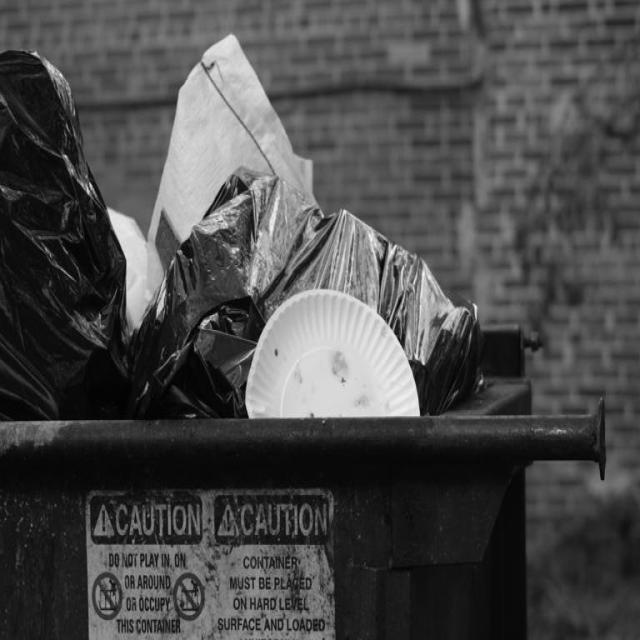garbage: (0, 19, 492, 422), (0, 35, 485, 422)
